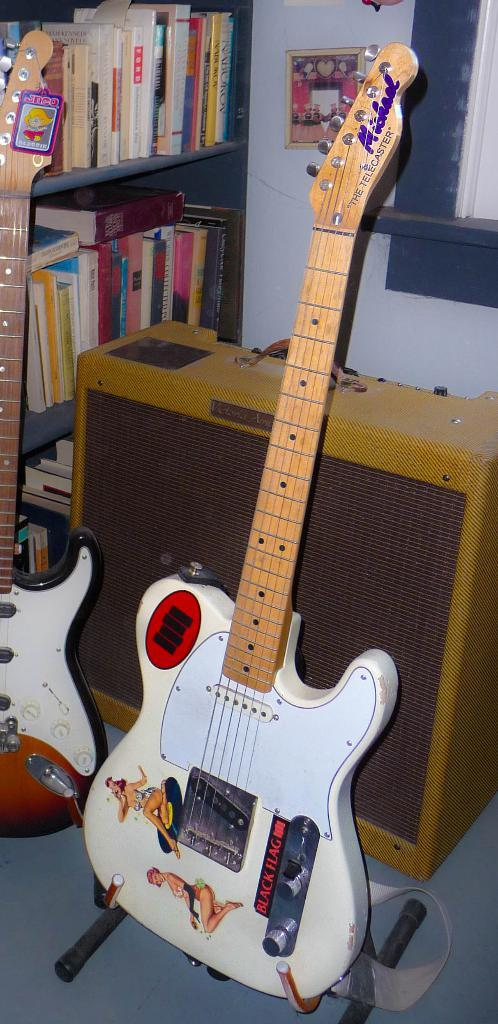Book: (19, 189, 236, 426), (0, 0, 236, 180), (24, 431, 78, 513), (10, 511, 56, 576)
